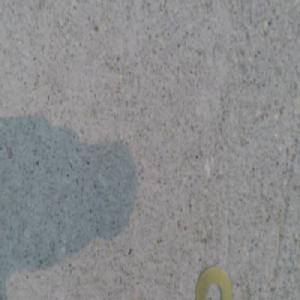Washer: (196, 265, 233, 299)
